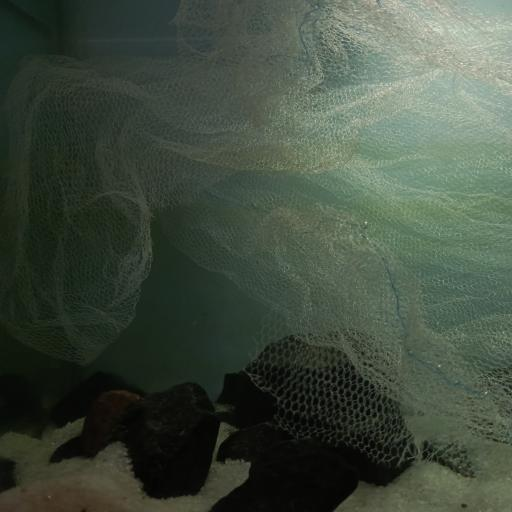net: (0, 4, 512, 478)
